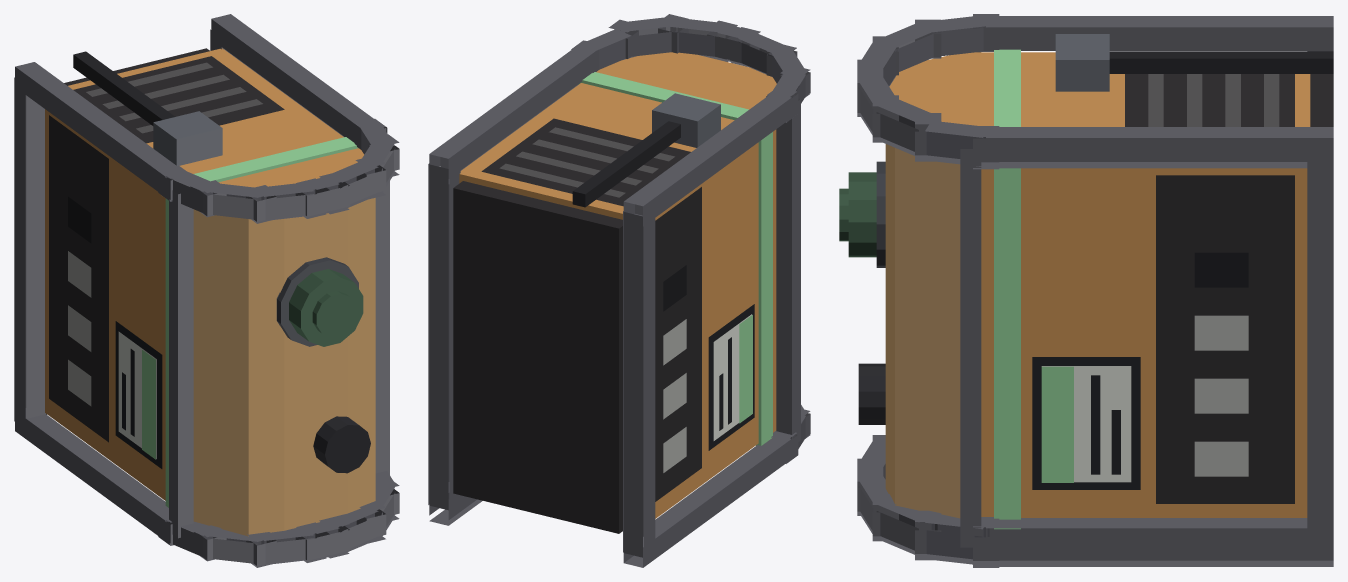
Rendered from backup_ground_premium_off_W.obj.
3 views of the same model, side by side, from view 1: azimuth 30°, elevation 25°; view 2: azimuth 150°, elevation 25°; view 3: azimuth 270°, elevation 25° (orthographic). The views are drawn at different scales.
Parts seen in each view (by area): view 1: backup_ground_premium_off_W; view 2: backup_ground_premium_off_W; view 3: backup_ground_premium_off_W.
Boxes of the visible parts, left/top/right/bottom form: backup_ground_premium_off_W: left=14, top=14, right=399, bottom=567; backup_ground_premium_off_W: left=428, top=14, right=810, bottom=567; backup_ground_premium_off_W: left=839, top=14, right=1333, bottom=567.
Size of the model in its own units: 0.377 by 0.625 by 0.64.
Materials: 1 (1 with a texture image).
